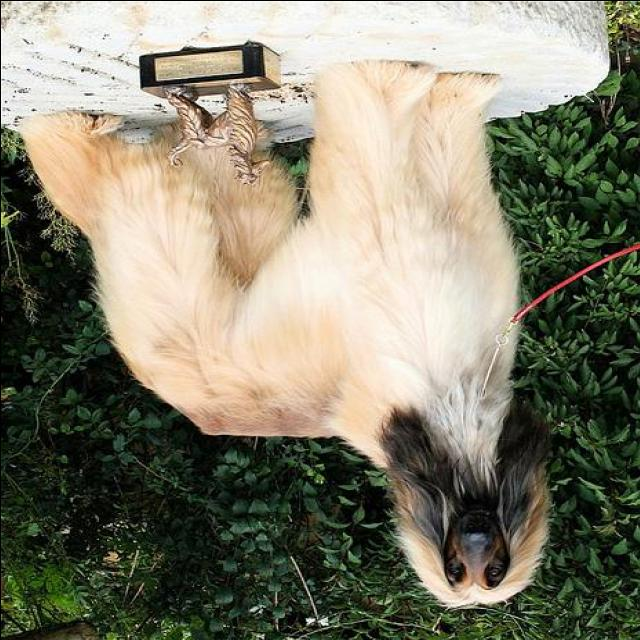afghan_hound: (12, 55, 556, 613)
